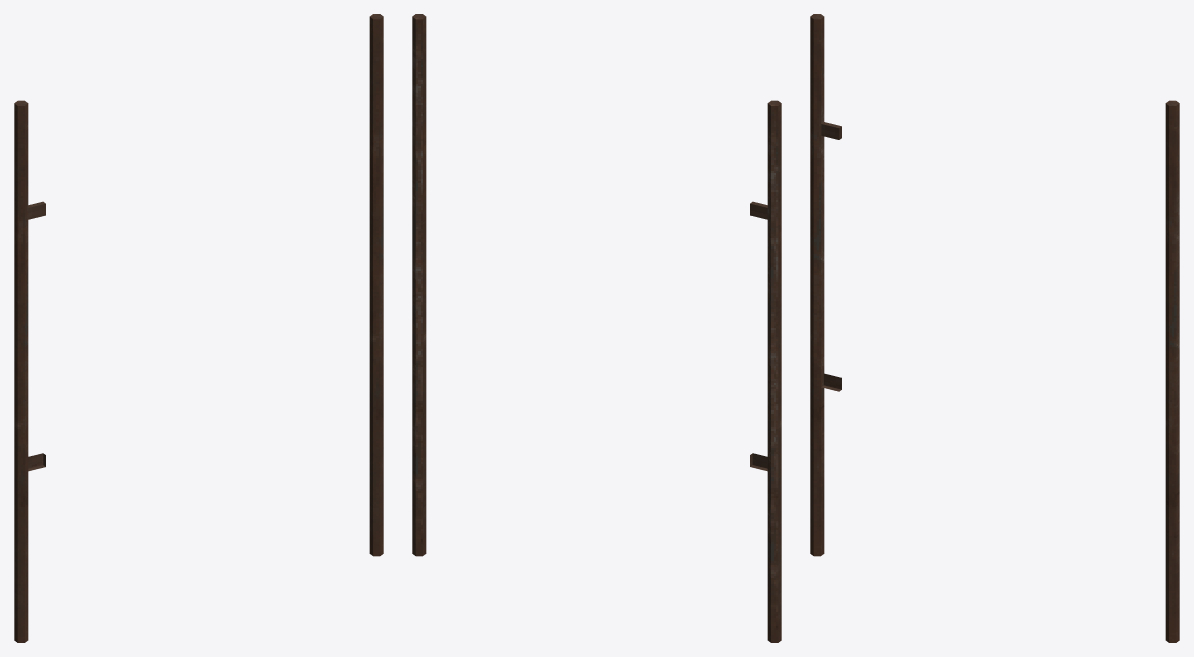
The model's file is metalfence_gate_only_sides.glb.
3 renders of one model, left to right at view 1: azimuth 30°, elevation 25°; view 2: azimuth 150°, elevation 25°; view 3: azimuth 330°, elevation 25°, orthographic.
Visible parts, largest first — view 1: metalfence_gate_only_sides; view 2: metalfence_gate_only_sides; view 3: metalfence_gate_only_sides.
Part boxes in pixels (bbox=[...]): metalfence_gate_only_sides: bbox=[14, 14, 383, 642]; metalfence_gate_only_sides: bbox=[412, 14, 781, 642]; metalfence_gate_only_sides: bbox=[810, 14, 1179, 642].
Bounding box in the file's own units: 1.49 × 2.08 × 0.05.
1 material, 1 textured.
